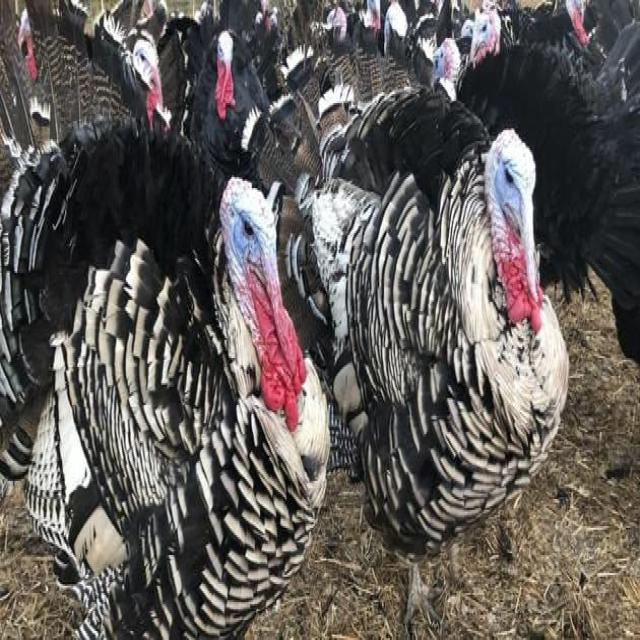Turkey: (41, 157, 334, 640), (286, 114, 570, 604)
